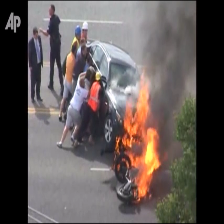fire_h: (122, 66, 161, 199)
fire_l: (117, 156, 129, 170), (114, 136, 120, 154)
